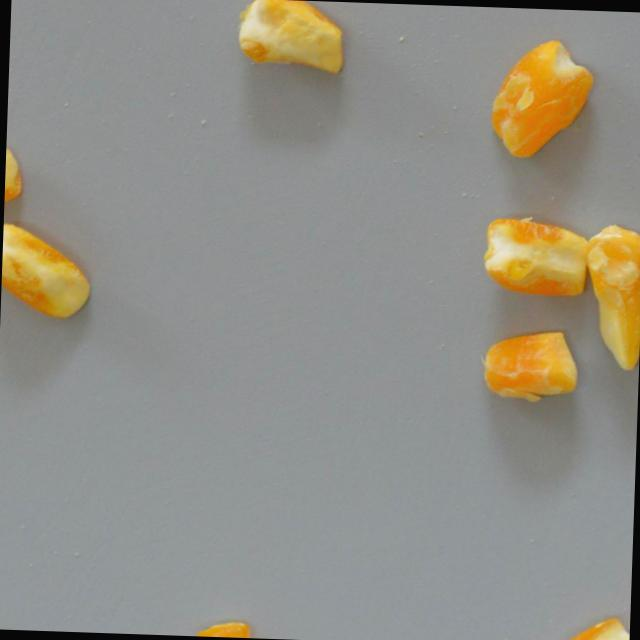pelicula: (482, 33, 600, 163), (480, 214, 596, 300), (578, 219, 640, 373), (230, 0, 349, 79), (0, 222, 94, 322), (479, 324, 585, 403), (545, 614, 630, 640), (3, 144, 22, 226), (192, 614, 250, 638)
